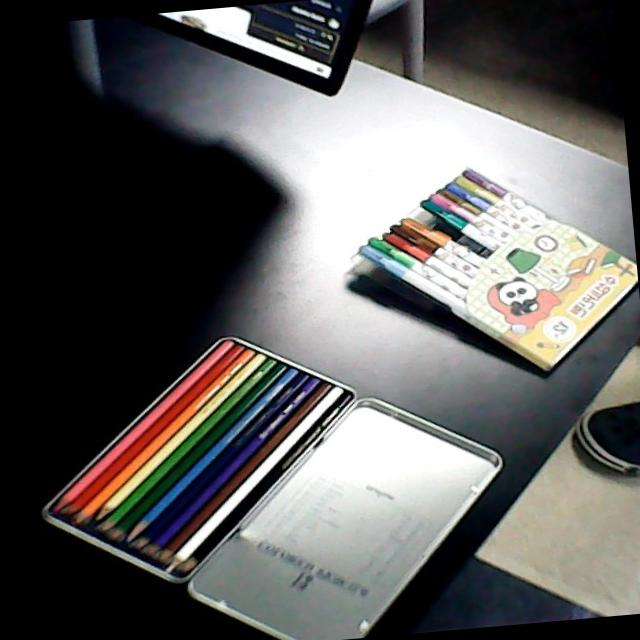color: (26, 327, 370, 590)
signpen: (339, 158, 638, 377)
